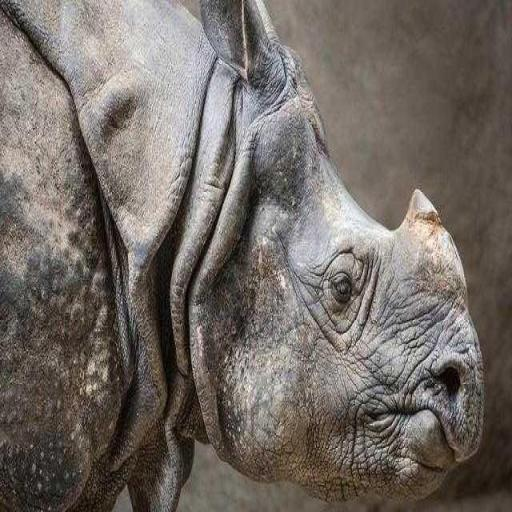Elephant: (0, 0, 485, 510)
